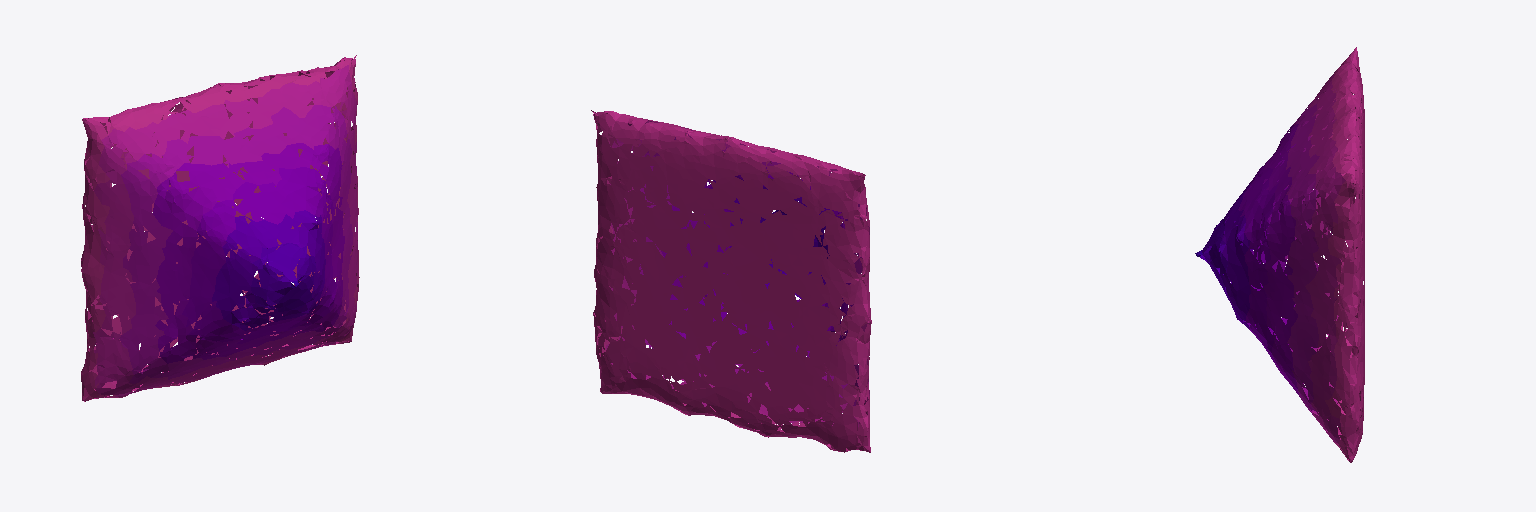
3 views of the same model, side by side, from view 1: azimuth 30°, elevation 25°; view 2: azimuth 150°, elevation 25°; view 3: azimuth 270°, elevation 25° (orthographic).
Visible parts, largest first — view 1: vivid_3d_obj; view 2: vivid_3d_obj; view 3: vivid_3d_obj.
Boxes of the visible parts, x1,y1,x2,y2 form: vivid_3d_obj: [81, 55, 359, 401]; vivid_3d_obj: [591, 110, 871, 452]; vivid_3d_obj: [1195, 47, 1364, 462].
Bounding box in the file's own units: 28.56 × 28.57 × 15.06.
1 materials, 1 textured.